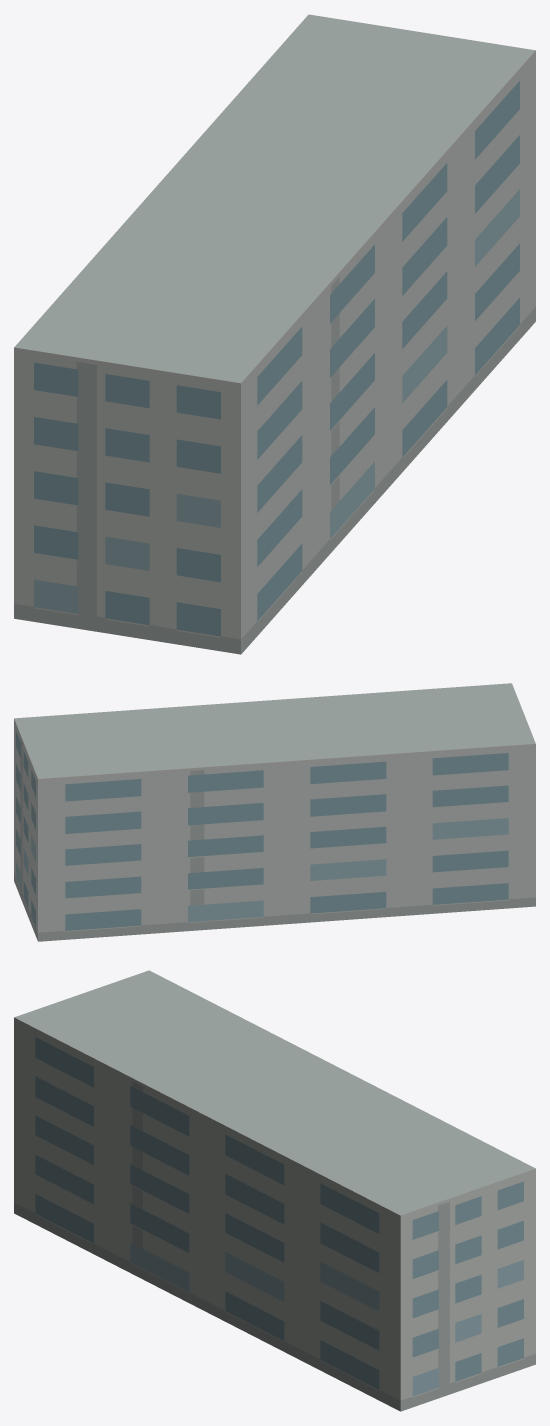
The model's file is residential-509cec27-ac03-4a7f-8bd1-d74d9ba0031f.glb.
3 views of the same model, one above another, from view 1: azimuth 30°, elevation 25°; view 2: azimuth 150°, elevation 25°; view 3: azimuth 270°, elevation 25° (orthographic). The views are drawn at different scales.
Parts seen in each view (by area): view 1: residential-509cec27-ac03-4a7f-8bd1-d74d9ba0031f.tmp; view 2: residential-509cec27-ac03-4a7f-8bd1-d74d9ba0031f.tmp; view 3: residential-509cec27-ac03-4a7f-8bd1-d74d9ba0031f.tmp.
Part boxes in pixels (bbox=[...]): residential-509cec27-ac03-4a7f-8bd1-d74d9ba0031f.tmp: bbox=[14, 14, 535, 654]; residential-509cec27-ac03-4a7f-8bd1-d74d9ba0031f.tmp: bbox=[14, 683, 535, 941]; residential-509cec27-ac03-4a7f-8bd1-d74d9ba0031f.tmp: bbox=[14, 970, 535, 1411].
Size of the model in its own units: 40.95 by 15.25 by 36.81.
